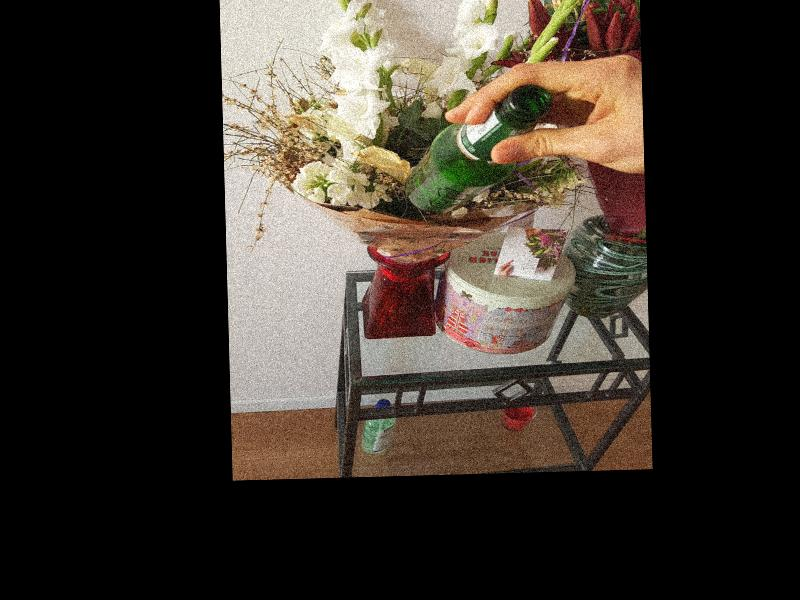Beer: (403, 84, 552, 213)
